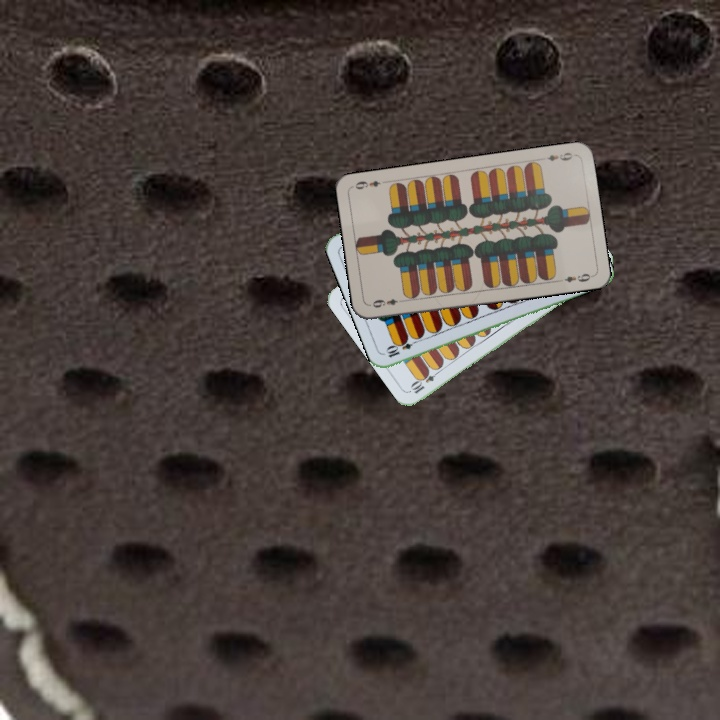E10: (407, 365, 443, 396), (382, 335, 422, 360)
E9: (369, 295, 407, 310), (543, 148, 575, 164)
